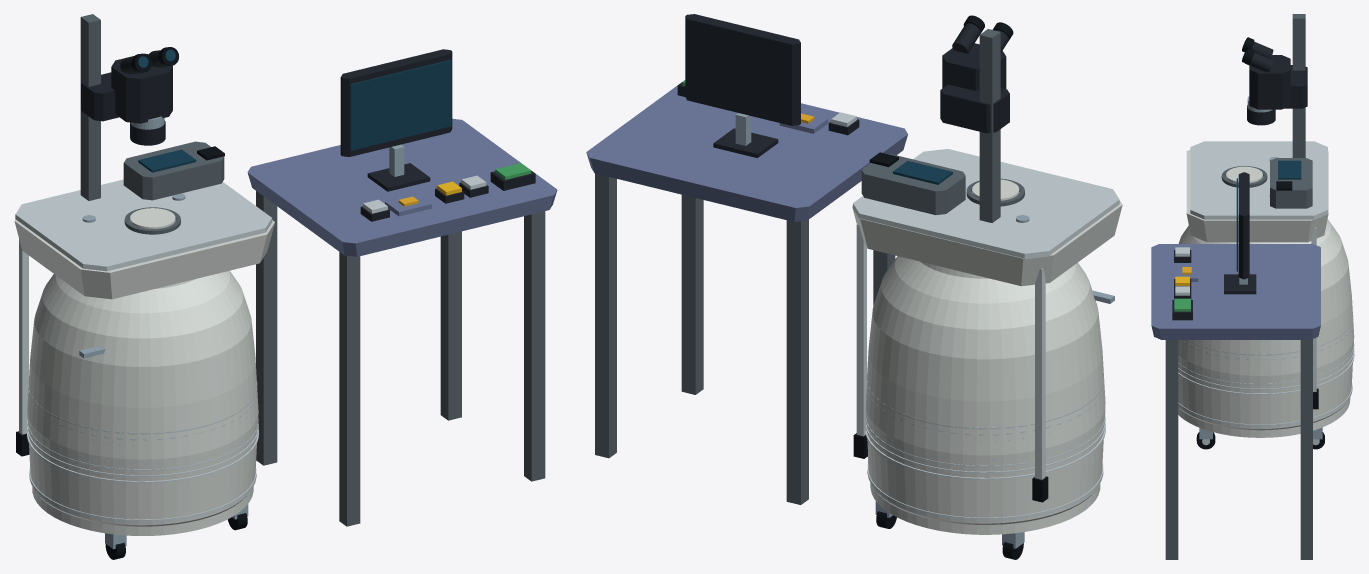
File: leica-em-afs2.glb
The picture shows the model from 3 angles, left to right: view 1: azimuth 30°, elevation 25°; view 2: azimuth 150°, elevation 25°; view 3: azimuth 270°, elevation 25°; orthographic projection. The views are drawn at different scales.
Visible parts, largest first — view 1: afs2_shell, desk, locked_platform, drawing_display, fixed_optics, inactive_readout, rail, add_note, casters, artifact; view 2: afs2_shell, desk, locked_platform, drawing_display, fixed_optics, rail, inactive_readout, casters; view 3: desk, afs2_shell, locked_platform, fixed_optics, inactive_readout, drawing_display, casters, add_note, rail, artifact, select_notch.
Boxes of the visible parts, x1,y1,x2,y2 form: afs2_shell: (27,270,258,535); desk: (247,118,557,526); locked_platform: (14,179,274,299); drawing_display: (340,49,452,156); fixed_optics: (80,14,178,200); inactive_readout: (123,141,224,200); rail: (16,239,105,456); add_note: (490,163,535,190); casters: (105,504,248,559); artifact: (385,194,431,216); afs2_shell: (865,256,1105,534); desk: (586,81,907,504); locked_platform: (852,149,1122,286); drawing_display: (685,14,800,125); fixed_optics: (940,15,1013,222); rail: (853,223,1114,502); inactive_readout: (861,152,965,215); casters: (875,501,1024,559); desk: (1151,244,1320,559); afs2_shell: (1178,219,1354,437); locked_platform: (1186,141,1328,242); fixed_optics: (1242,14,1307,157); inactive_readout: (1270,158,1312,208); drawing_display: (1236,172,1249,279); casters: (1196,427,1324,449); add_note: (1172,298,1192,320); rail: (1311,227,1318,409); artifact: (1175,265,1198,281); select_notch: (1174,247,1191,262).
Bounding box in the file's own units: 1.26 × 1.31 × 0.6075.
